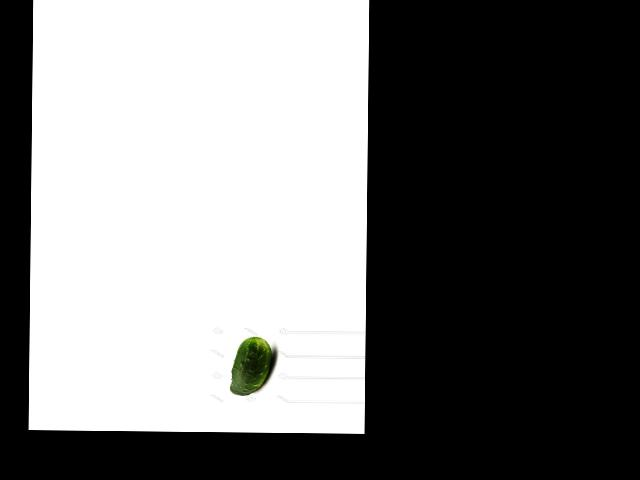cucumber: (230, 336, 272, 396)
